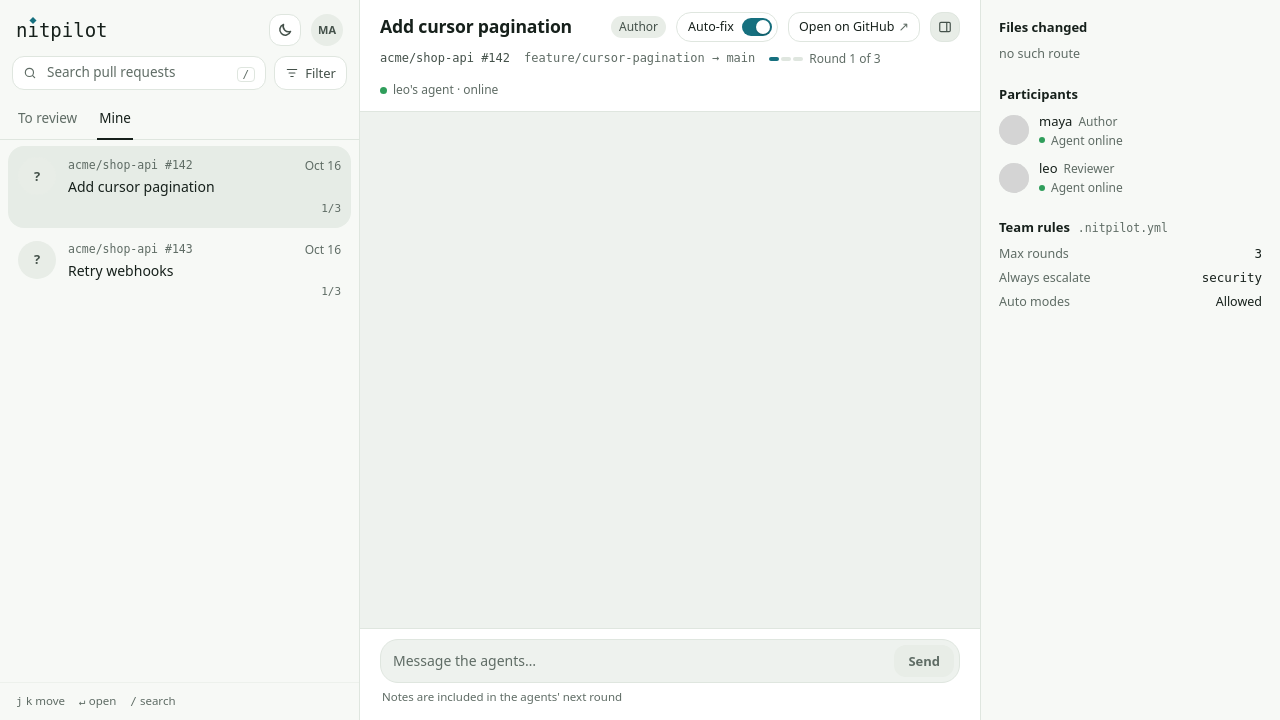
Composer (handoff §2 "Composer") › keeps a half-written note for each chat while you look at another
In the text box labelled "Message the agents": (640, 661) [393,645,886,677], type "Half a thought"
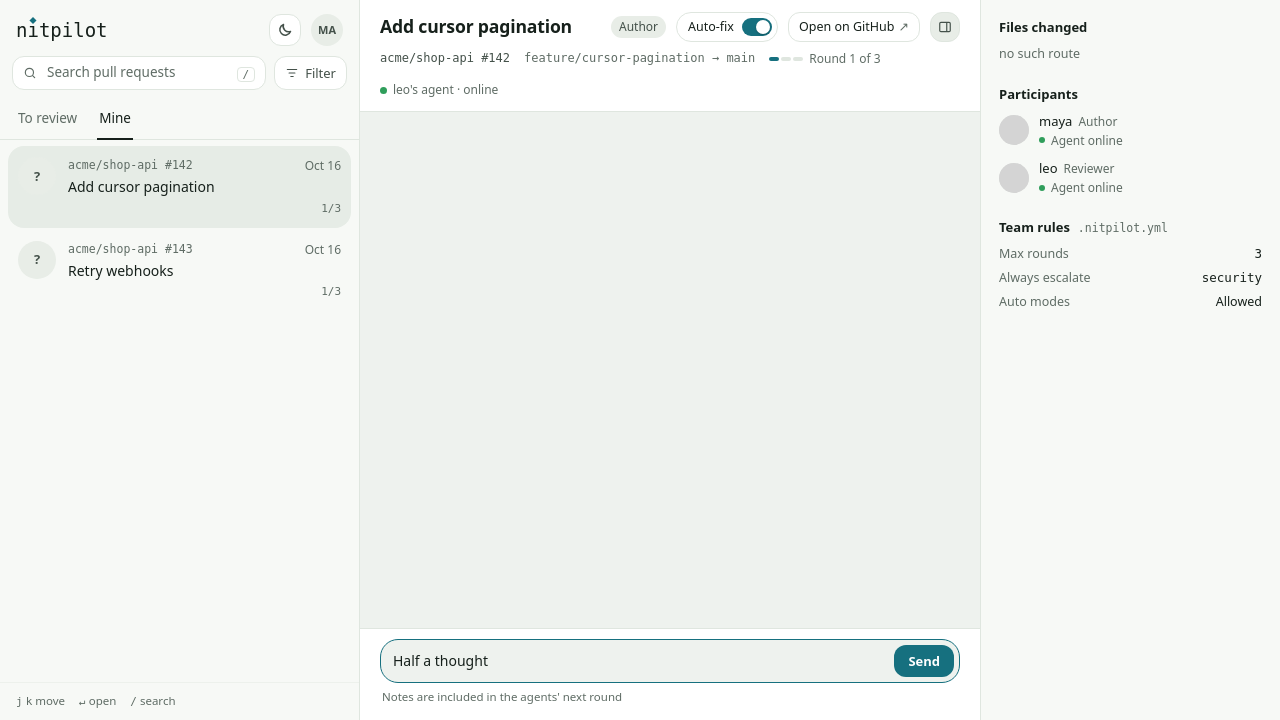
Click the option "? acme/shop-api #143 Oct 16 Retry webhooks 1/3": (37, 260) [8,230,351,311]
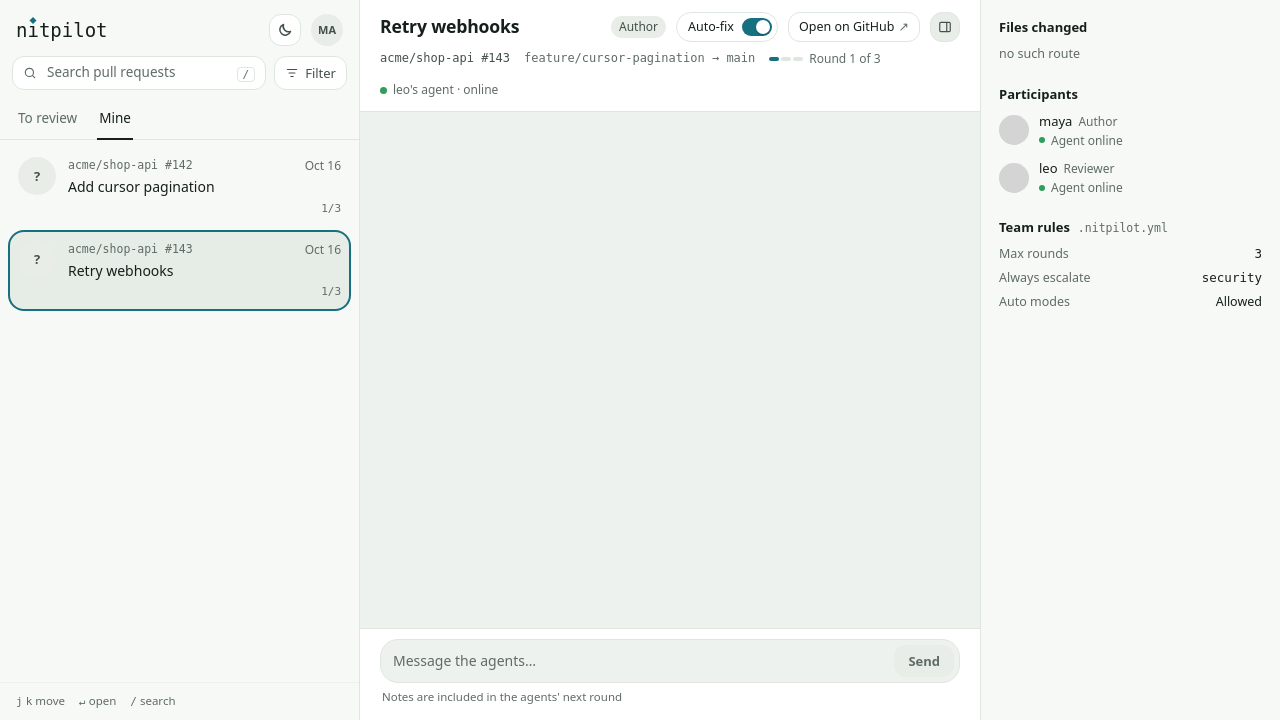
Expected: the heading "Retry webhooks" is shown, [380,14,519,38]
Expected: the text box labelled "Message the agents" is empty, [393,645,886,677]
Click the option "? acme/shop-api #142 Oct 16 Add cursor pagination 1/3": (180, 187) [8,146,351,228]
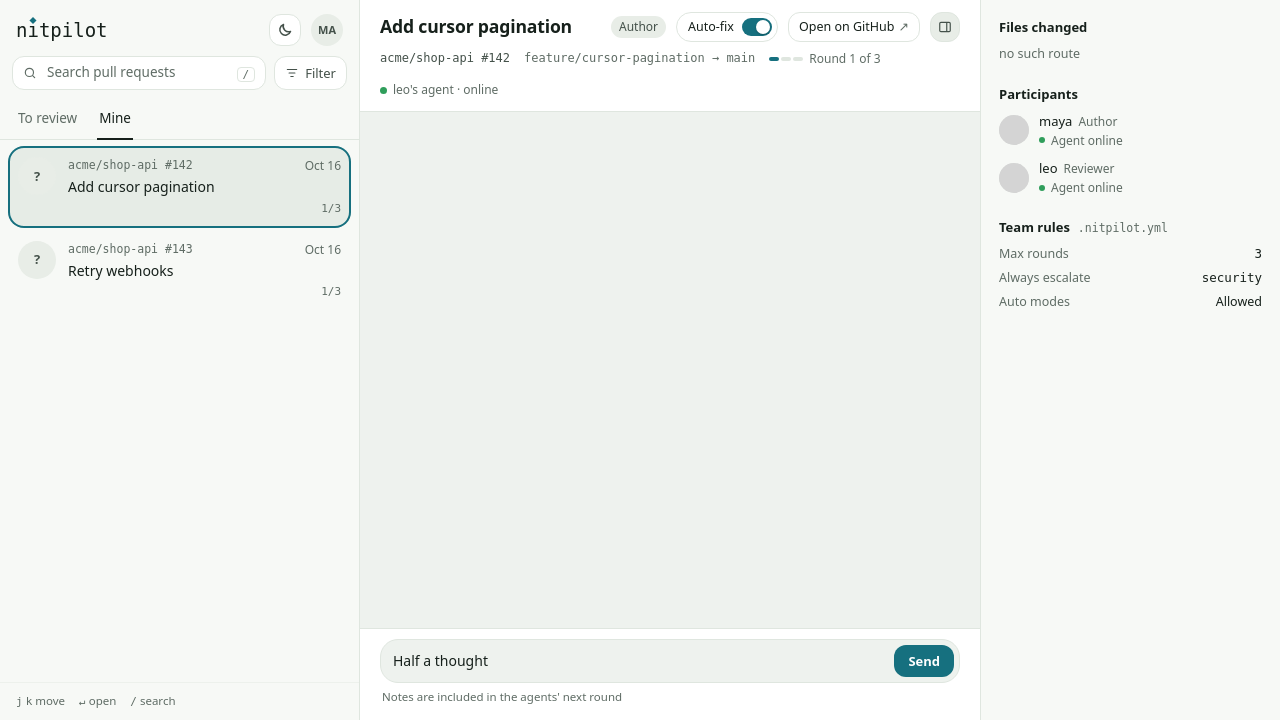
Expected: the heading "Add cursor pagination" is shown, [380,14,601,40]
Expected: the text box named "Message the agents" holds "Half a thought", [393,645,886,677]
